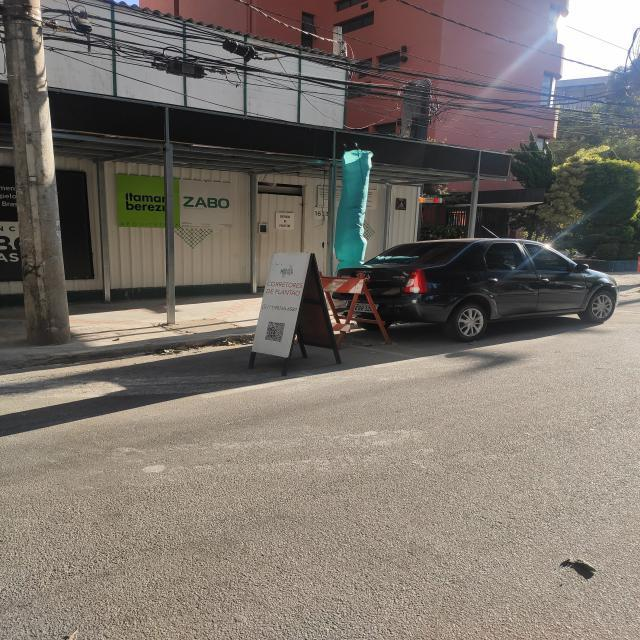qr_code: (265, 321, 285, 342)
